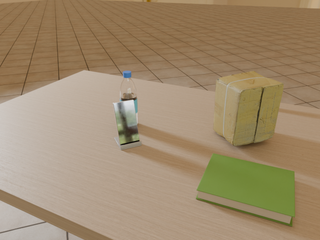book: (196, 153, 295, 226)
bottle: (120, 71, 138, 124)
box: (214, 71, 283, 146)
phone: (113, 99, 139, 146)
